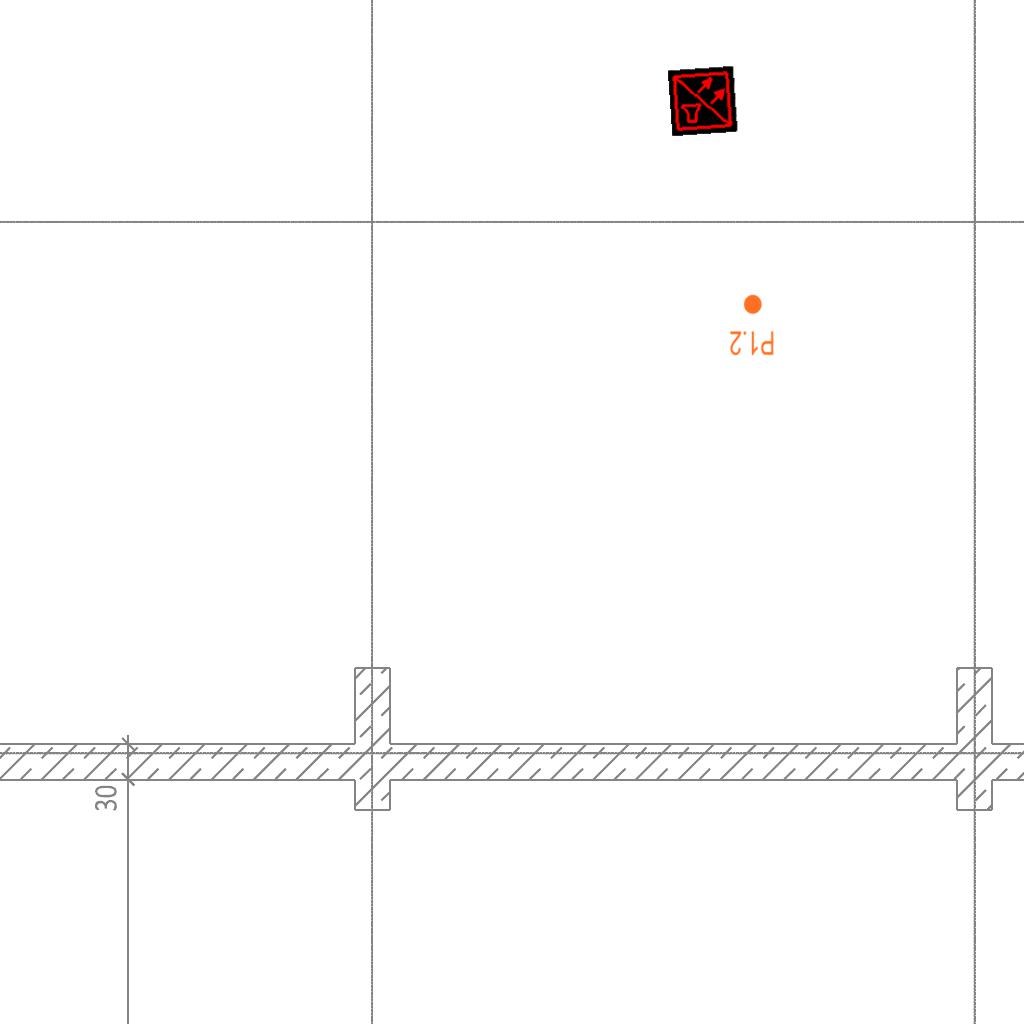Downlight_LED_Einbauleuchten_Flur: (729, 293, 775, 357)
OKW_Multisensormelder_(Kombination_optischer_Rauch-Kahlenmonoxid_Waerme-Melder): (667, 65, 739, 137)
